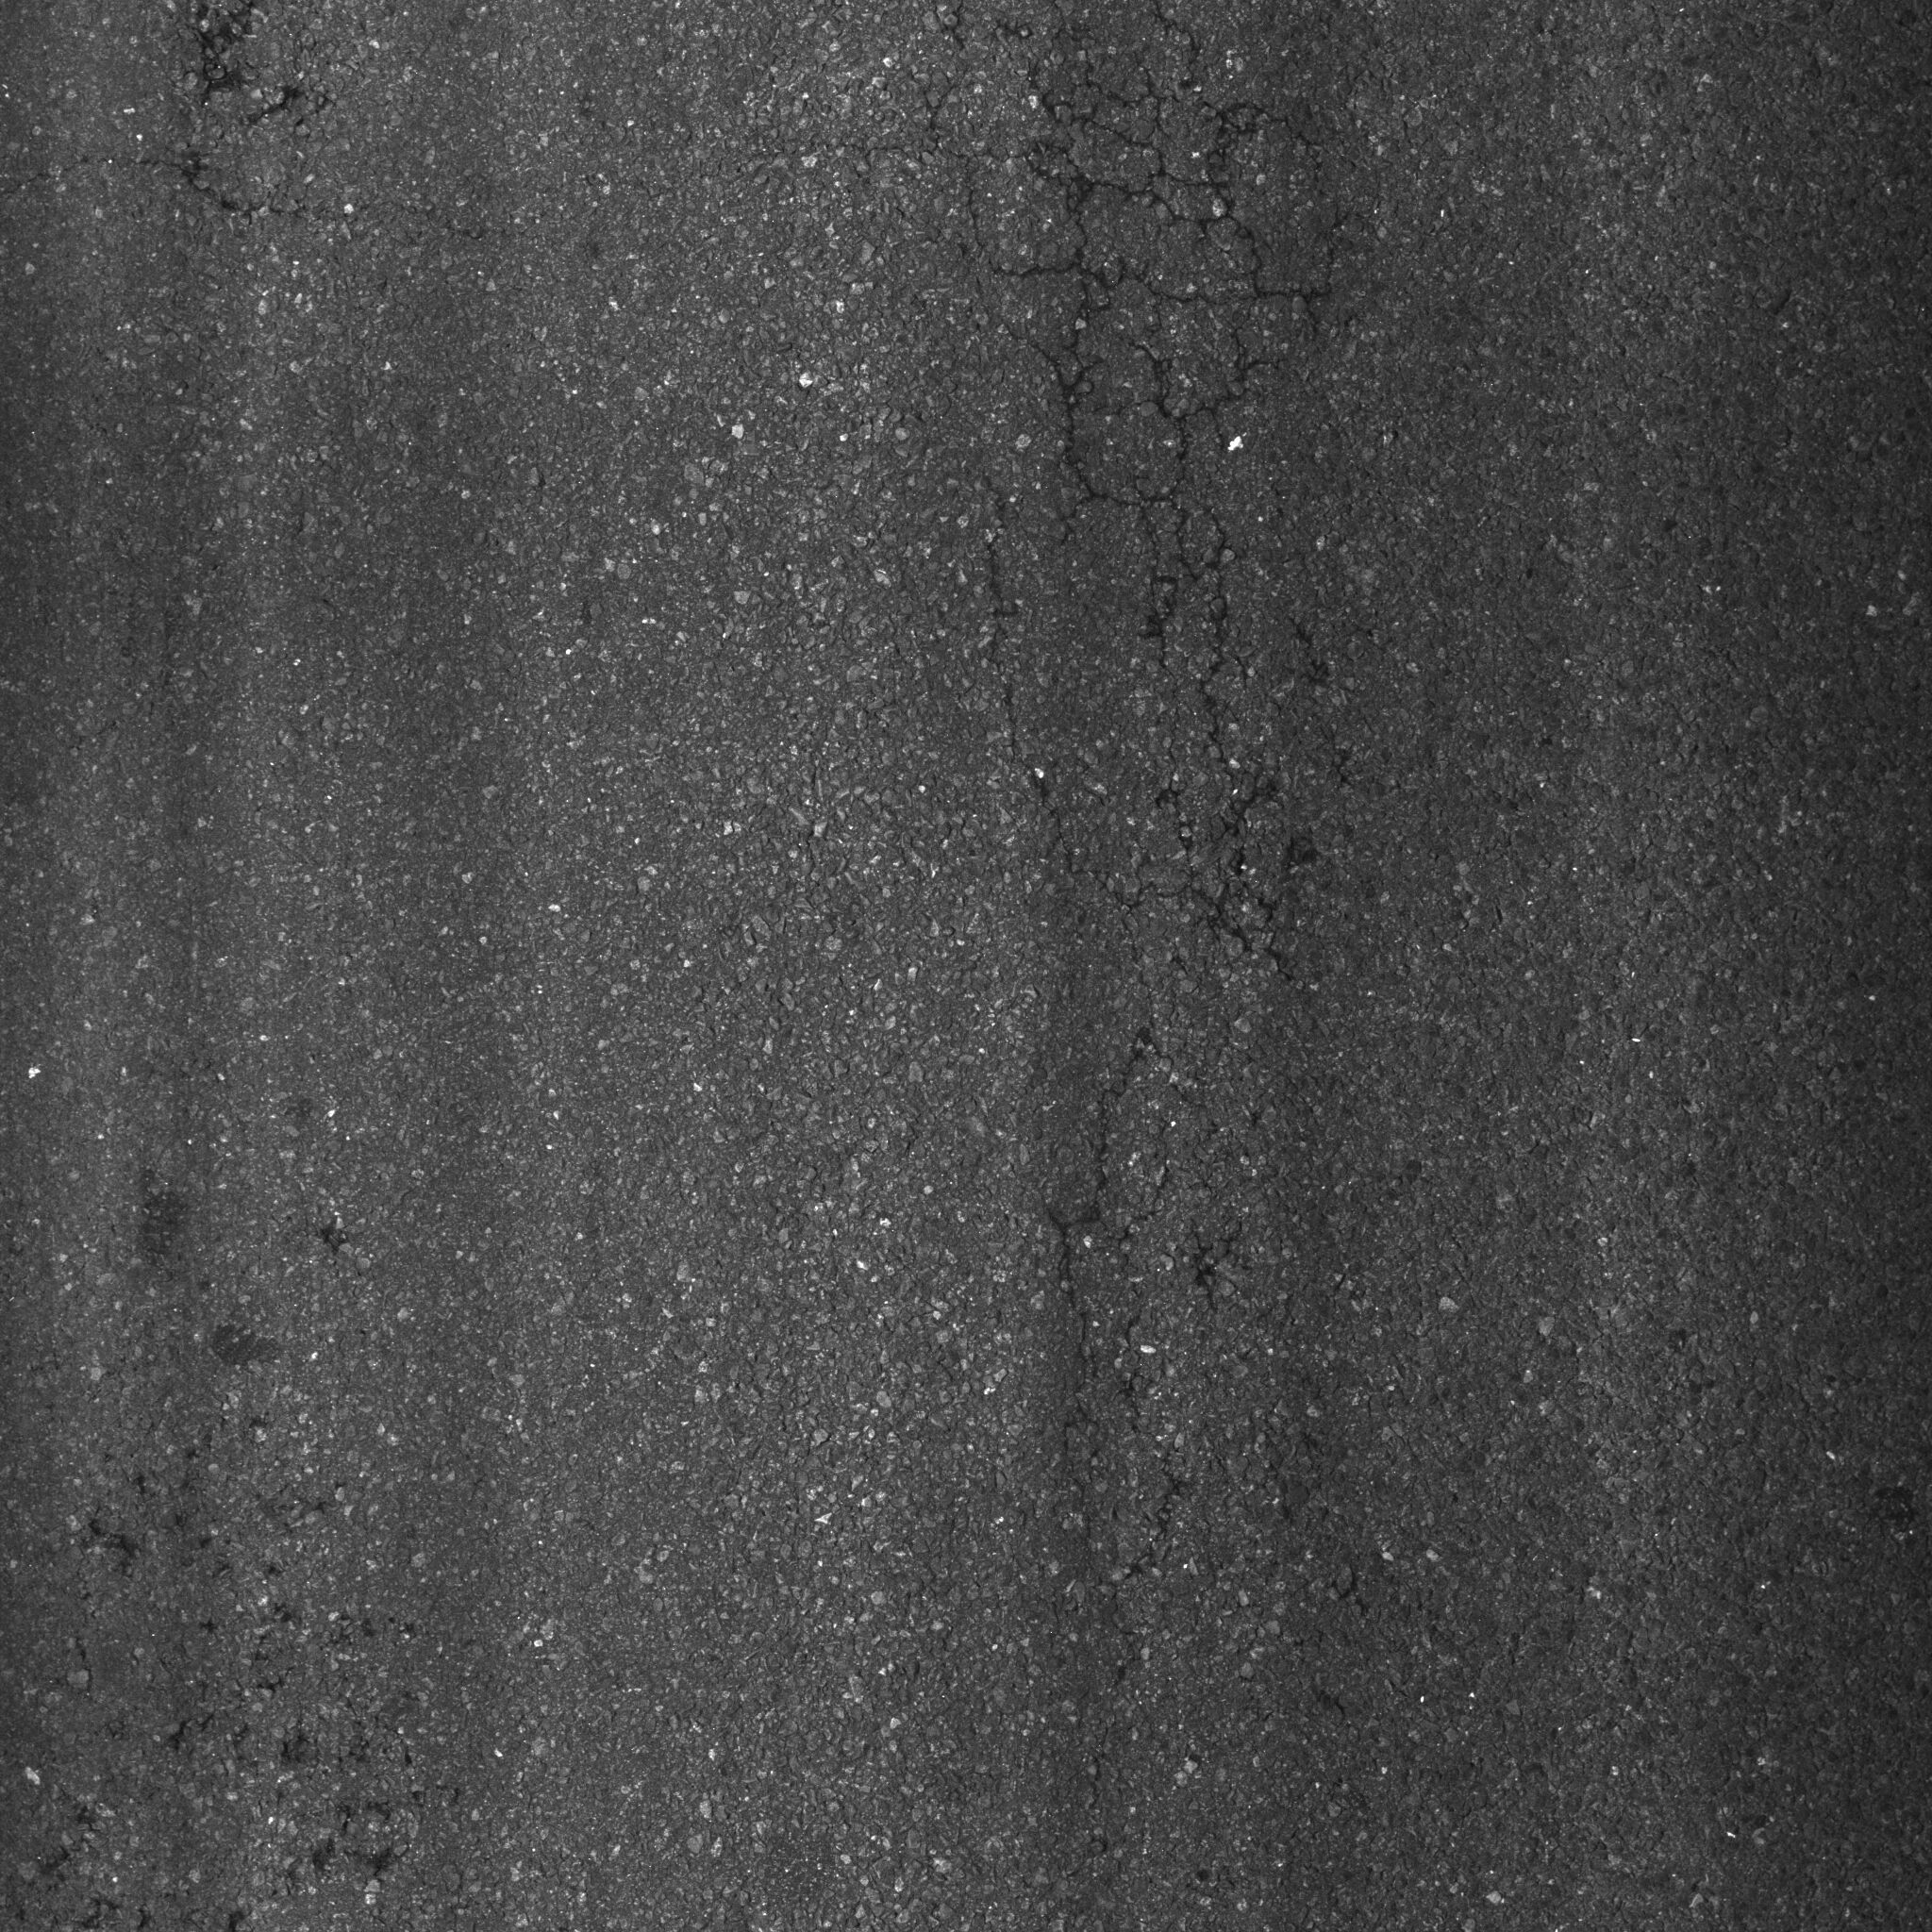alligator: (918, 25, 1373, 1603)
